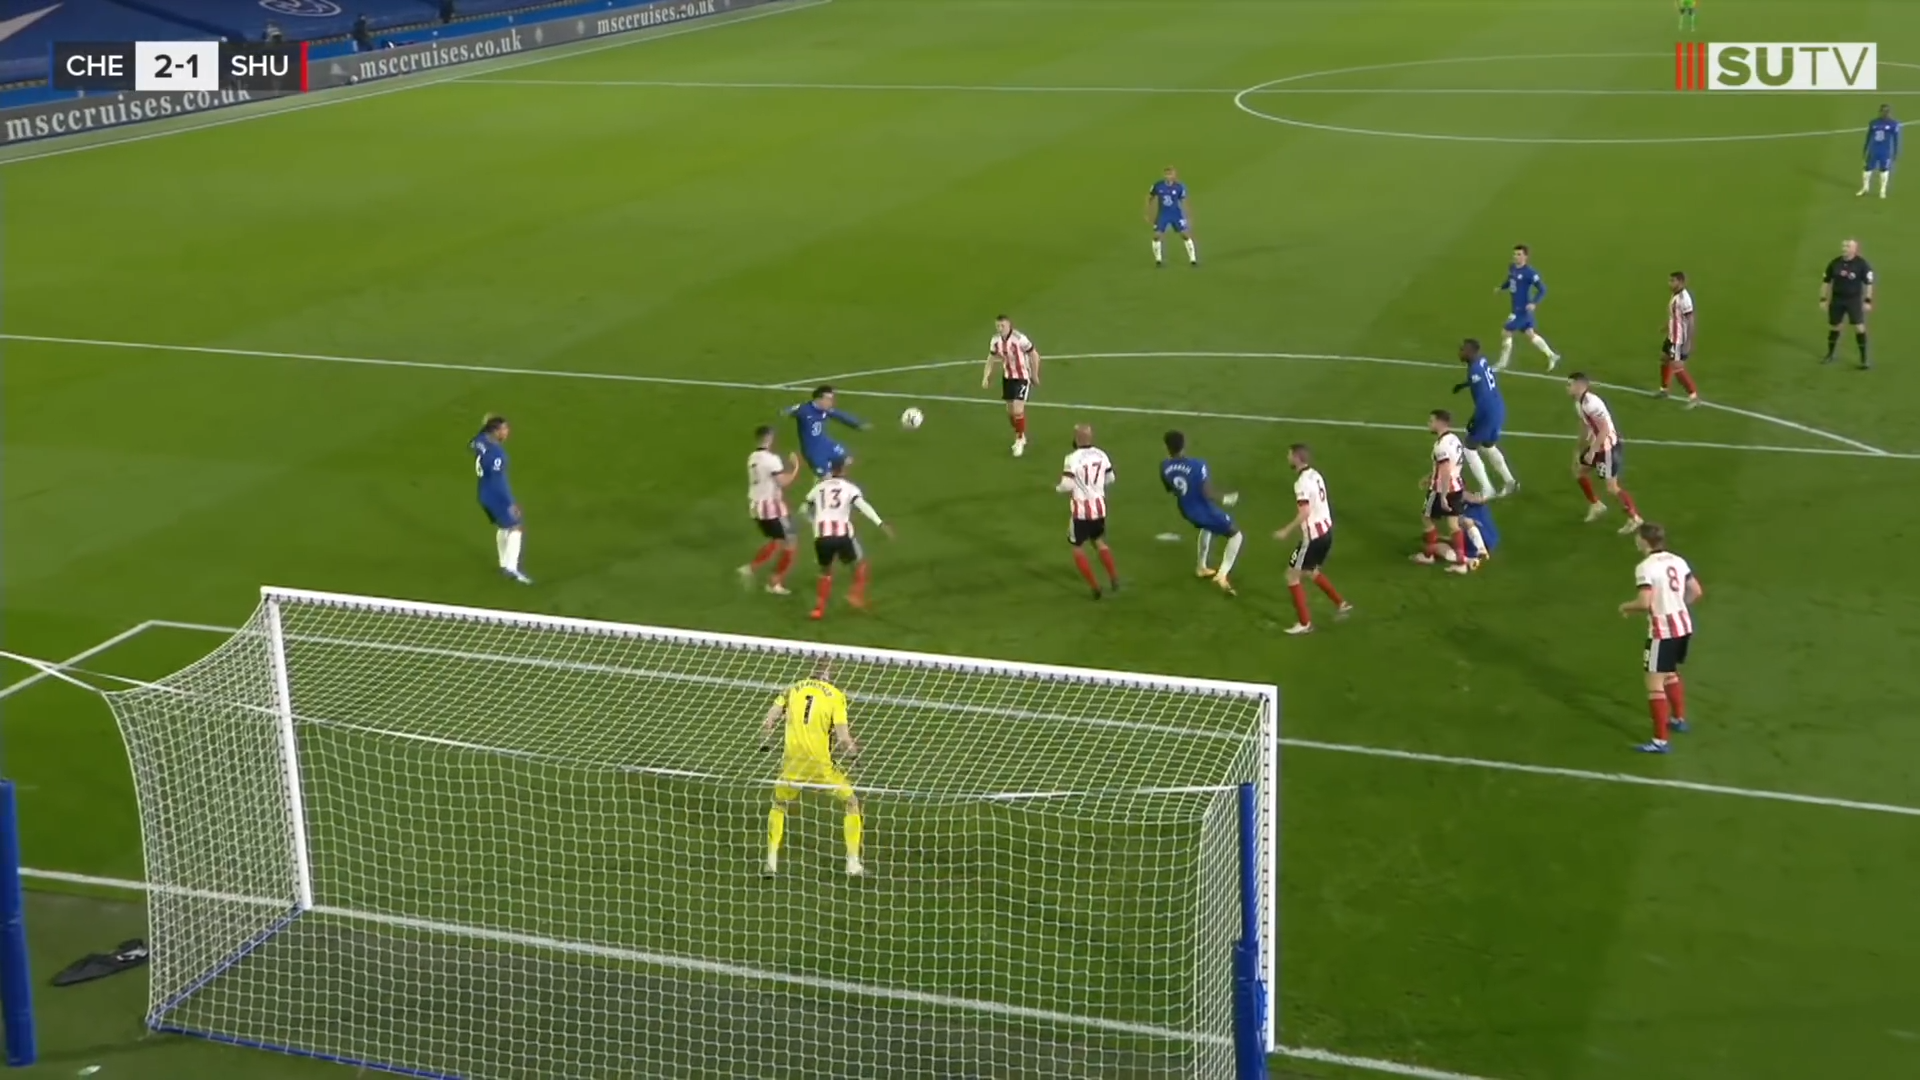Player: (1610, 518, 1711, 750), (1271, 438, 1364, 639), (796, 452, 887, 620), (1056, 420, 1137, 607), (464, 392, 541, 588), (966, 305, 1045, 462), (1654, 248, 1718, 423), (1488, 233, 1565, 372), (741, 411, 792, 592), (1141, 151, 1204, 275)
